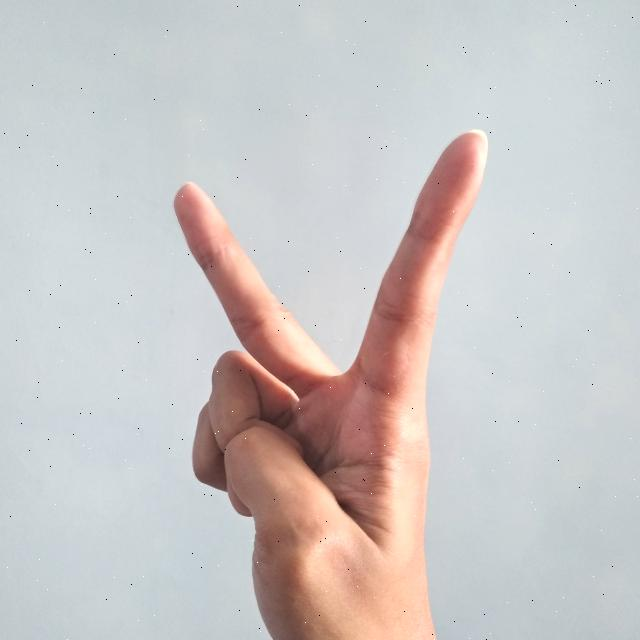V: (162, 119, 498, 640)
